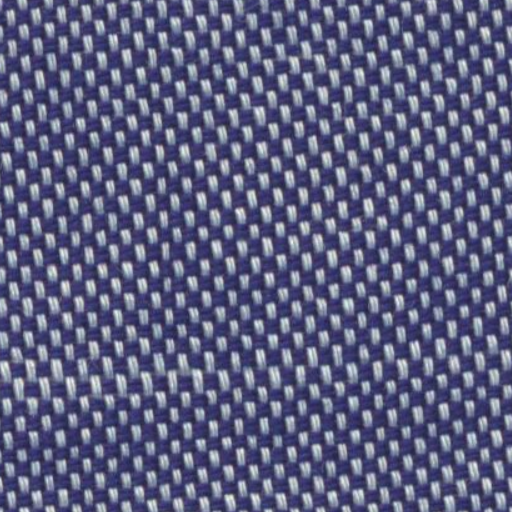TuoSha: (12, 332, 496, 424)
